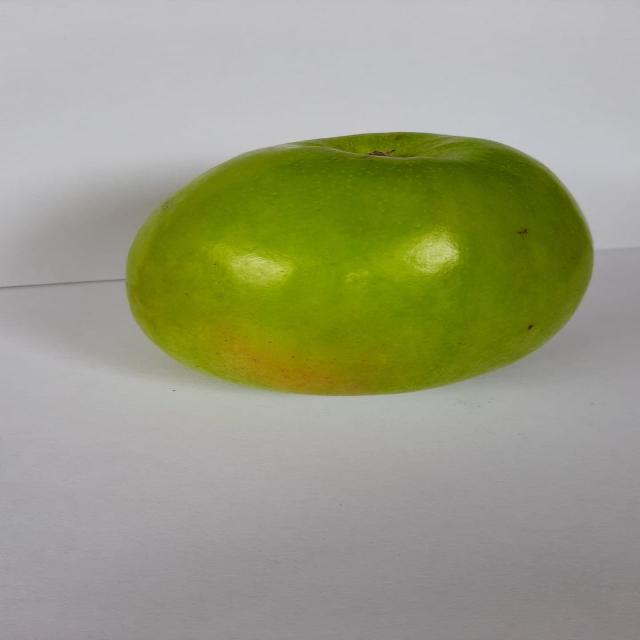50-_ripeness: (96, 122, 606, 408)
